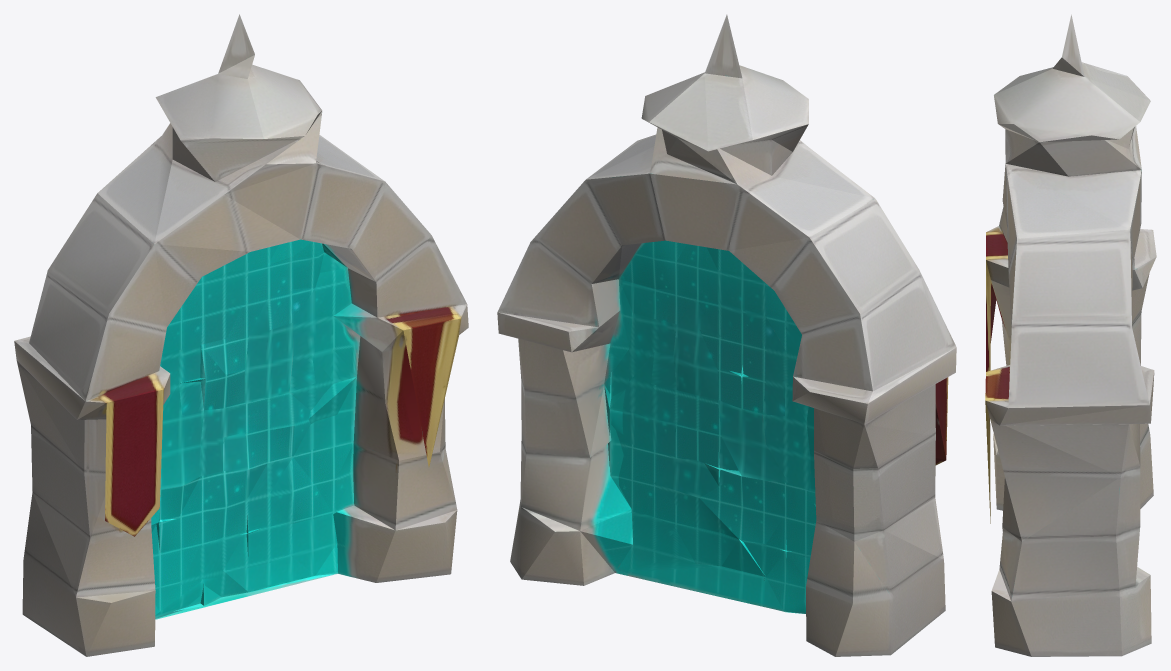
The model's file is meshy.glb.
3 views of the same model, side by side, from view 1: azimuth 30°, elevation 25°; view 2: azimuth 150°, elevation 25°; view 3: azimuth 270°, elevation 25° (orthographic). The views are drawn at different scales.
Size of the model in its own units: 1.34 by 1.9 by 0.5301.
Materials: 1 (1 with a texture image).
